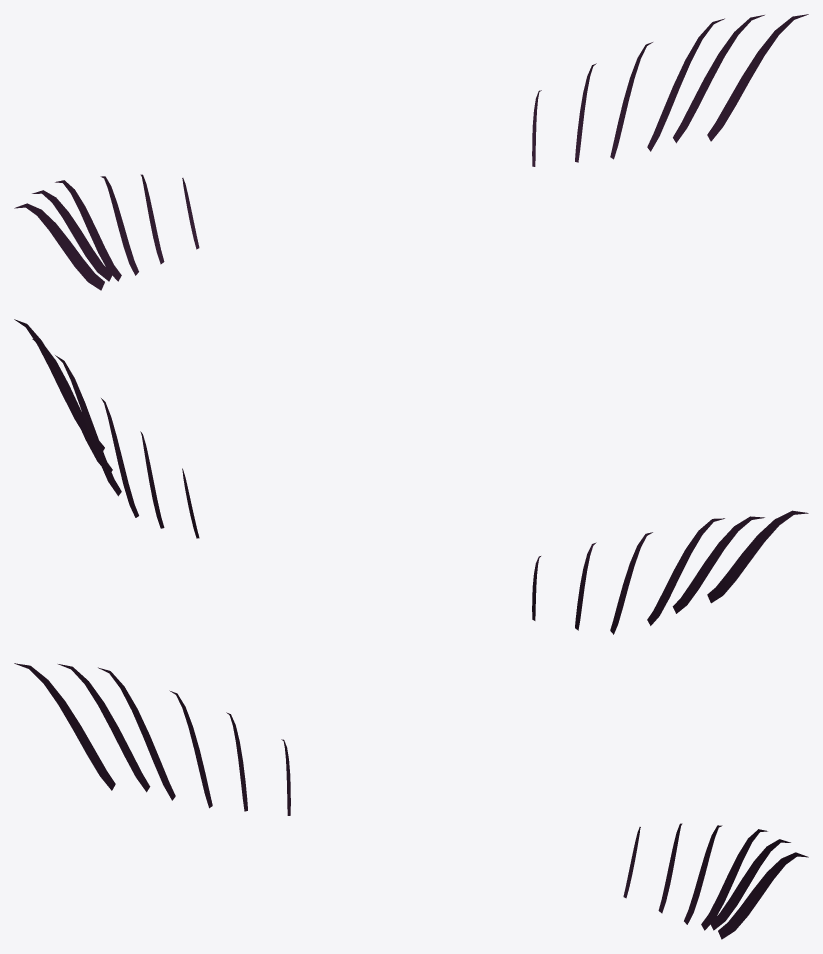
The model's file is dark-idol-native-lashes-v1-1ba835887c25.glb.
The picture shows the model from 3 angles, top to bottom: view 1: azimuth 30°, elevation 25°; view 2: azimuth 150°, elevation 25°; view 3: azimuth 330°, elevation 25°; orthographic projection.
Parts seen in each view (by area): view 1: DarkIdol_WingLashes_R, DarkIdol_WingLashes_L; view 2: DarkIdol_WingLashes_L, DarkIdol_WingLashes_R; view 3: DarkIdol_WingLashes_L, DarkIdol_WingLashes_R.
Part boxes in pixels (x1,y1,x2,y2): DarkIdol_WingLashes_R: (532,14,808,166); DarkIdol_WingLashes_L: (14,174,199,290); DarkIdol_WingLashes_L: (532,510,808,634); DarkIdol_WingLashes_R: (14,319,199,538); DarkIdol_WingLashes_L: (14,663,290,815); DarkIdol_WingLashes_R: (623,823,808,939).
Bounding box in the file's own units: 0.1829 × 0.0294 × 0.0202.
